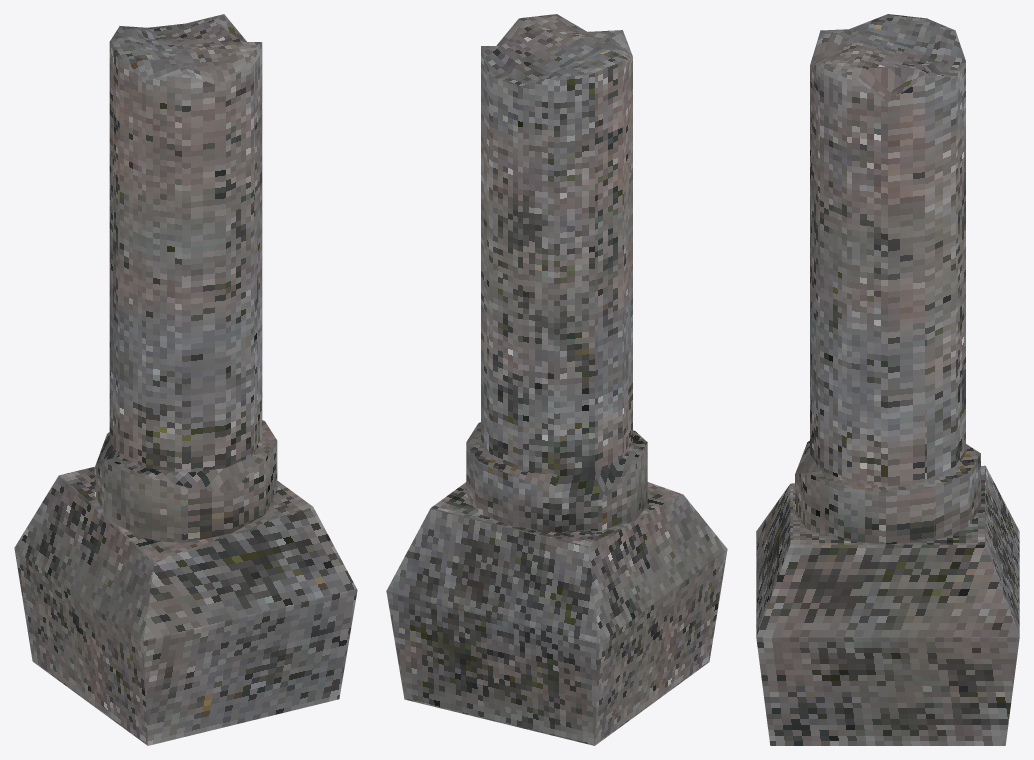
The model's file is Column_1.gltf.
3 renders of one model, left to right at view 1: azimuth 30°, elevation 25°; view 2: azimuth 150°, elevation 25°; view 3: azimuth 270°, elevation 25°, orthographic. The views are drawn at different scales.
Parts seen in each view (by area): view 1: Column_1; view 2: Column_1; view 3: Column_1.
Boxes of the visible parts, bbox=[...] form: Column_1: bbox=[14, 14, 357, 745]; Column_1: bbox=[386, 14, 727, 745]; Column_1: bbox=[756, 14, 1019, 745].
Bounding box in the file's own units: 1.64 × 4.67 × 1.71.
Materials: 1 (1 with a texture image).
